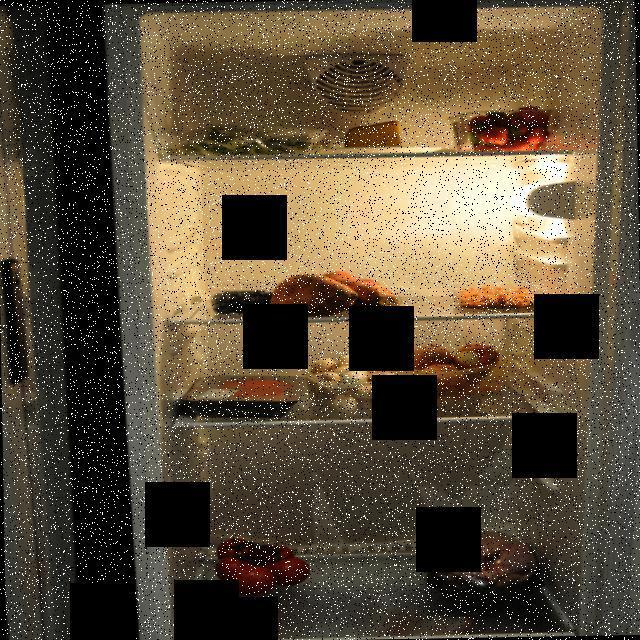beef: (196, 370, 296, 416)
blueberries: (210, 286, 282, 316)
cheese: (342, 118, 404, 152)
chicken: (420, 526, 549, 606)
green_beans: (170, 115, 336, 160)
mushrooms: (296, 349, 414, 416)
onion: (409, 341, 496, 390)
shrimp: (449, 284, 540, 314)
strawberries: (449, 105, 556, 157)
sweet_potato: (260, 266, 408, 322)
tomato: (212, 532, 314, 598)
